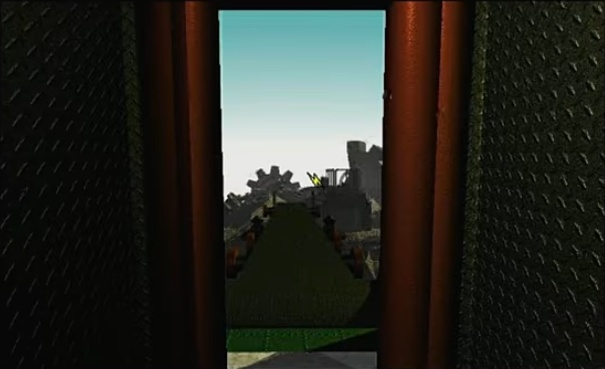Keep: (302, 167, 326, 189)
